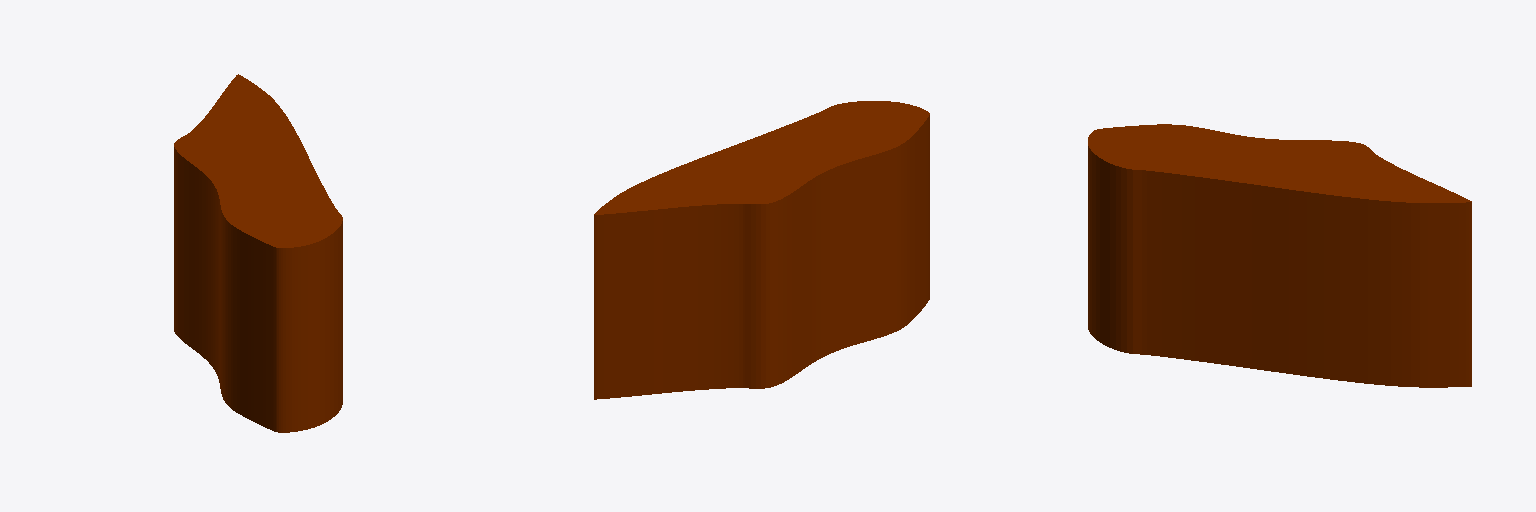
Rendered from Africa_04.obj.
The picture shows the model from 3 angles: view 1: azimuth 30°, elevation 25°; view 2: azimuth 150°, elevation 25°; view 3: azimuth 270°, elevation 25°; orthographic projection.
Visible parts, largest first — view 1: Africa_04_path4228; view 2: Africa_04_path4228; view 3: Africa_04_path4228.
Part boxes in pixels (bbox=[...]): Africa_04_path4228: bbox=[174, 74, 342, 432]; Africa_04_path4228: bbox=[594, 101, 929, 399]; Africa_04_path4228: bbox=[1088, 124, 1471, 387].
Size of the model in its own units: 0.0916 by 0.1 by 0.189.